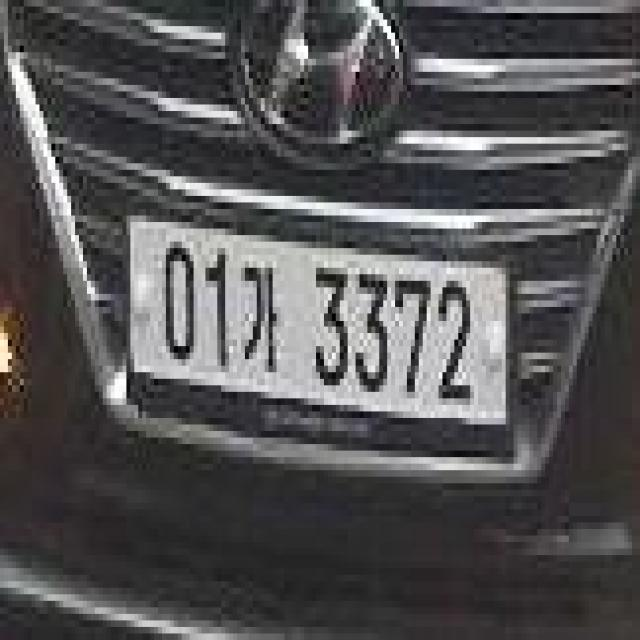illegal_plate: (125, 201, 515, 475)
